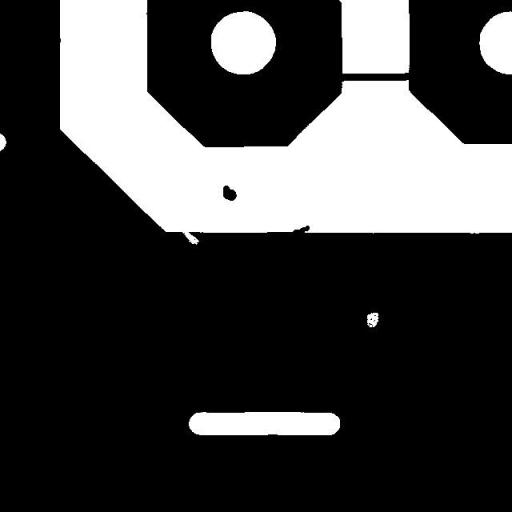copper: (215, 178, 244, 208)
mousebite: (174, 223, 206, 252)
pin-hole: (359, 305, 386, 334)
short: (331, 65, 419, 89)
spur: (285, 218, 317, 243)
